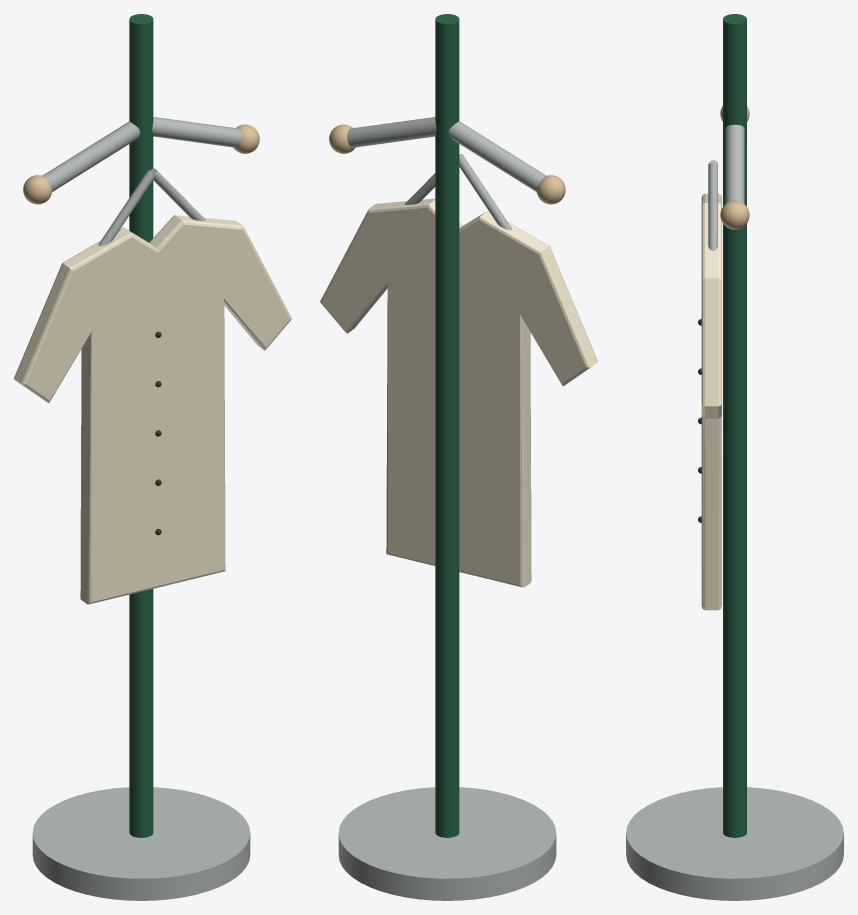
File: cricket-ground-and-pavilion-umpire-coat-stand-fe95677c__31354.glb
The picture shows the model from 3 angles, left to right: view 1: azimuth 30°, elevation 25°; view 2: azimuth 150°, elevation 25°; view 3: azimuth 270°, elevation 25°; orthographic projection.
Visible parts, largest first — view 1: umpire-coat-stand; view 2: umpire-coat-stand; view 3: umpire-coat-stand.
Boxes of the visible parts, x1,y1,x2,y2 form: umpire-coat-stand: (14,14,291,900); umpire-coat-stand: (320,14,597,900); umpire-coat-stand: (626,14,843,900).
Size of the model in its own units: 0.5747 by 1.69 by 0.4001.
